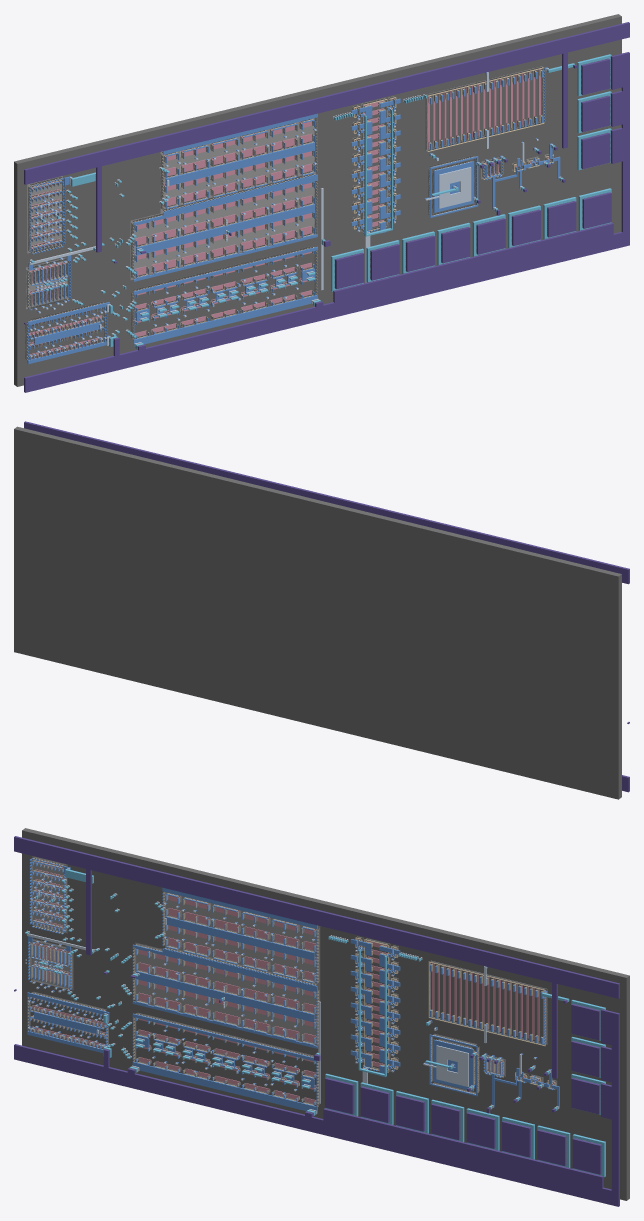
Rendered from bandgap.gds.gltf.
3 views of the same model, one above another, from view 1: azimuth 30°, elevation 25°; view 2: azimuth 150°, elevation 25°; view 3: azimuth 330°, elevation 25° (orthographic).
Parts seen in each view (by area): view 1: bandgap_substrate, bg__se_folded_cascode_p_substrate, bandgap_met4, bg__cap_met4 (×11), bg__se_folded_cascode_p_met4, bgfccpb__Guardring_P_nwell, bg__res_substrate, bgfccpt__Guardring_P_nwell, bg__res_poly, bgfc__casp_bot_met1, bg__trim_met1, bg__se_folded_cascode_p_met1 (+15 smaller); view 2: bandgap_substrate, bg__se_folded_cascode_p_substrate, bg__cap_substrate (×7), bg__se_folded_cascode_p_met4, bandgap_met4, bg__res_substrate; view 3: bandgap_substrate, bg__se_folded_cascode_p_substrate, bandgap_met4, bg__cap_met4 (×11), bg__se_folded_cascode_p_met4, bg__res_substrate, bgfccpb__Guardring_P_nwell, bgfccpt__Guardring_P_nwell, bg__res_poly, bgfc__casp_bot_met1, bg__trim_met1, bgfc__casn_top_met1 (+15 smaller).
Boxes of the visible parts, x1=… form: bandgap_substrate: x1=14, y1=14, x2=621, y2=386; bg__se_folded_cascode_p_substrate: x1=14, y1=90, x2=322, y2=386; bandgap_met4: x1=24, y1=22, x2=629, y2=324; bg__cap_met4 (×11): x1=333, y1=56, x2=613, y2=293; bg__se_folded_cascode_p_met4: x1=24, y1=96, x2=330, y2=392; bgfccpb__Guardring_P_nwell: x1=130, y1=181, x2=315, y2=279; bg__res_substrate: x1=428, y1=69, x2=541, y2=149; bgfccpt__Guardring_P_nwell: x1=160, y1=118, x2=315, y2=210; bg__res_poly: x1=428, y1=69, x2=540, y2=148; bgfc__casp_bot_met1: x1=133, y1=179, x2=317, y2=281; bg__trim_met1: x1=351, y1=98, x2=400, y2=230; bg__se_folded_cascode_p_met1: x1=133, y1=113, x2=317, y2=346; bandgap_substrate: x1=14, y1=426, x2=621, y2=799; bg__se_folded_cascode_p_substrate: x1=326, y1=507, x2=621, y2=799; bg__cap_substrate (×7): x1=30, y1=464, x2=167, y2=663; bg__se_folded_cascode_p_met4: x1=323, y1=495, x2=629, y2=792; bandgap_met4: x1=24, y1=421, x2=628, y2=723; bg__res_substrate: x1=93, y1=479, x2=209, y2=562; bandgap_substrate: x1=22, y1=828, x2=629, y2=1200; bg__se_folded_cascode_p_substrate: x1=22, y1=831, x2=327, y2=1118; bandgap_met4: x1=14, y1=909, x2=619, y2=1206; bg__cap_met4 (×11): x1=323, y1=1004, x2=603, y2=1178; bg__se_folded_cascode_p_met4: x1=14, y1=836, x2=320, y2=1133; bg__res_substrate: x1=431, y1=963, x2=546, y2=1044; bgfccpb__Guardring_P_nwell: x1=135, y1=942, x2=320, y2=1046; bgfccpt__Guardring_P_nwell: x1=165, y1=892, x2=320, y2=984; bg__res_poly: x1=432, y1=963, x2=544, y2=1041; bgfc__casp_bot_met1: x1=132, y1=944, x2=317, y2=1048; bg__trim_met1: x1=350, y1=939, x2=400, y2=1070; bgfc__casn_top_met1: x1=132, y1=1013, x2=317, y2=1109.
Bounding box in the file's own units: 210 × 74.12 × 6.87.
